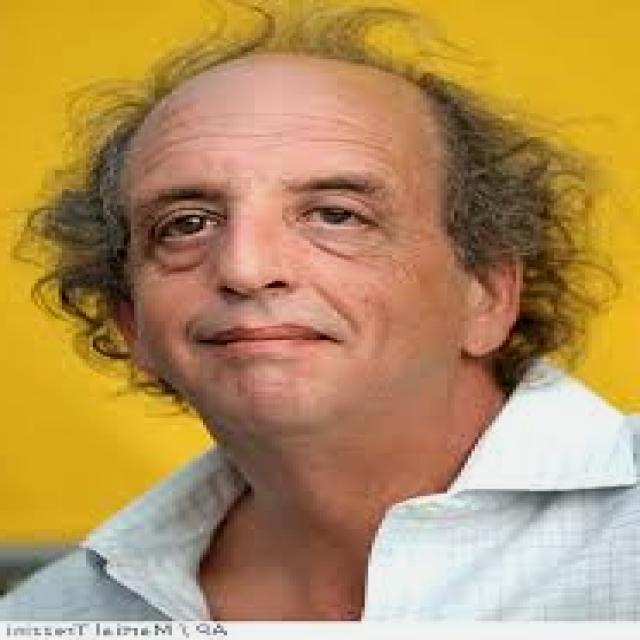normal_face: (37, 26, 566, 483)
